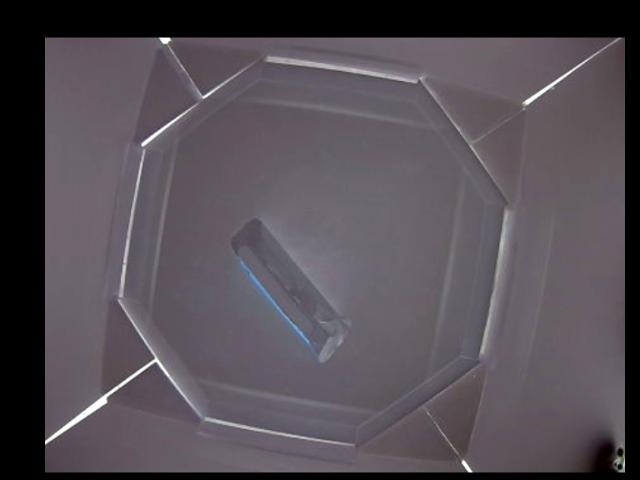China: (226, 218, 347, 362)
